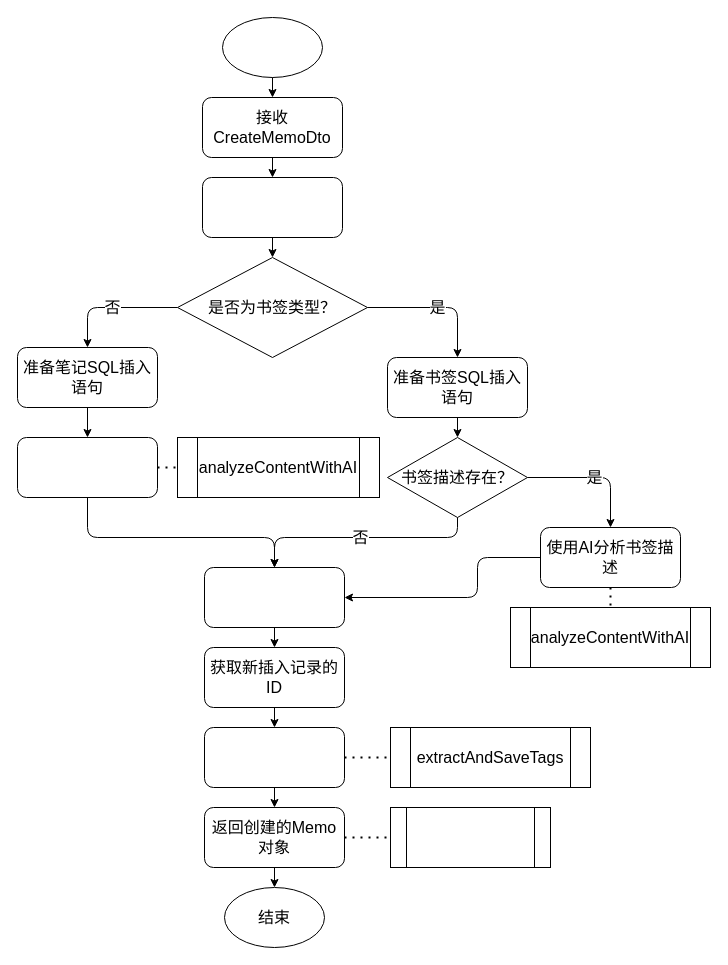
The diagram is 728 pixels wide and 965 high, and some of its shapes have lost their labels. The centre of each missing label's shape, as x and y in pixels:
"getMemo" belongs at pixel 470 837.
"使用AI分析笔记内容" belongs at pixel 87 467.
"开始" belongs at pixel 272 47.
"执行SQL插入操作" belongs at pixel 274 597.
"提取data和创建时间戳" belongs at pixel 272 207.
"提取并保存标签" belongs at pixel 274 757.
